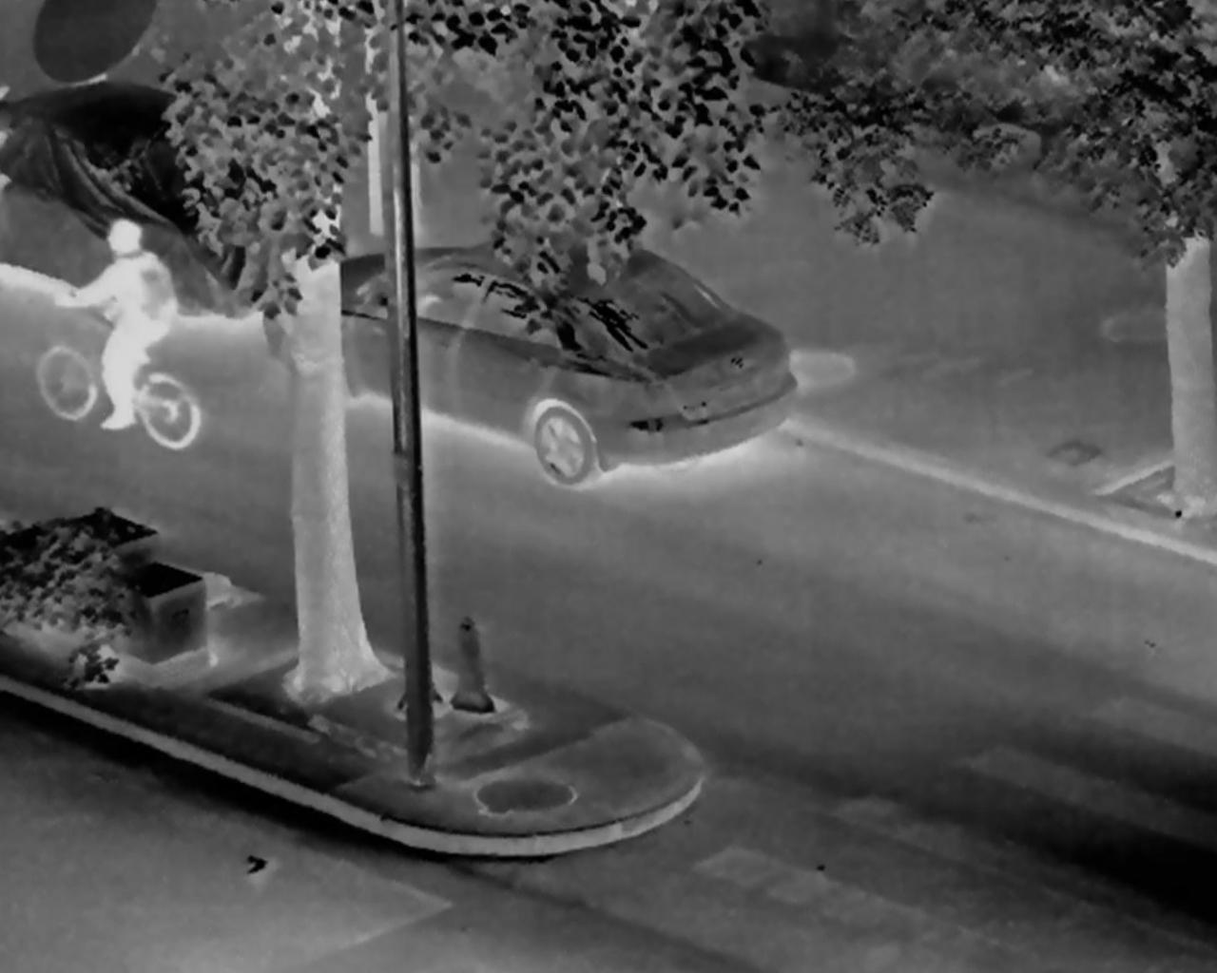person: (53, 221, 172, 429)
